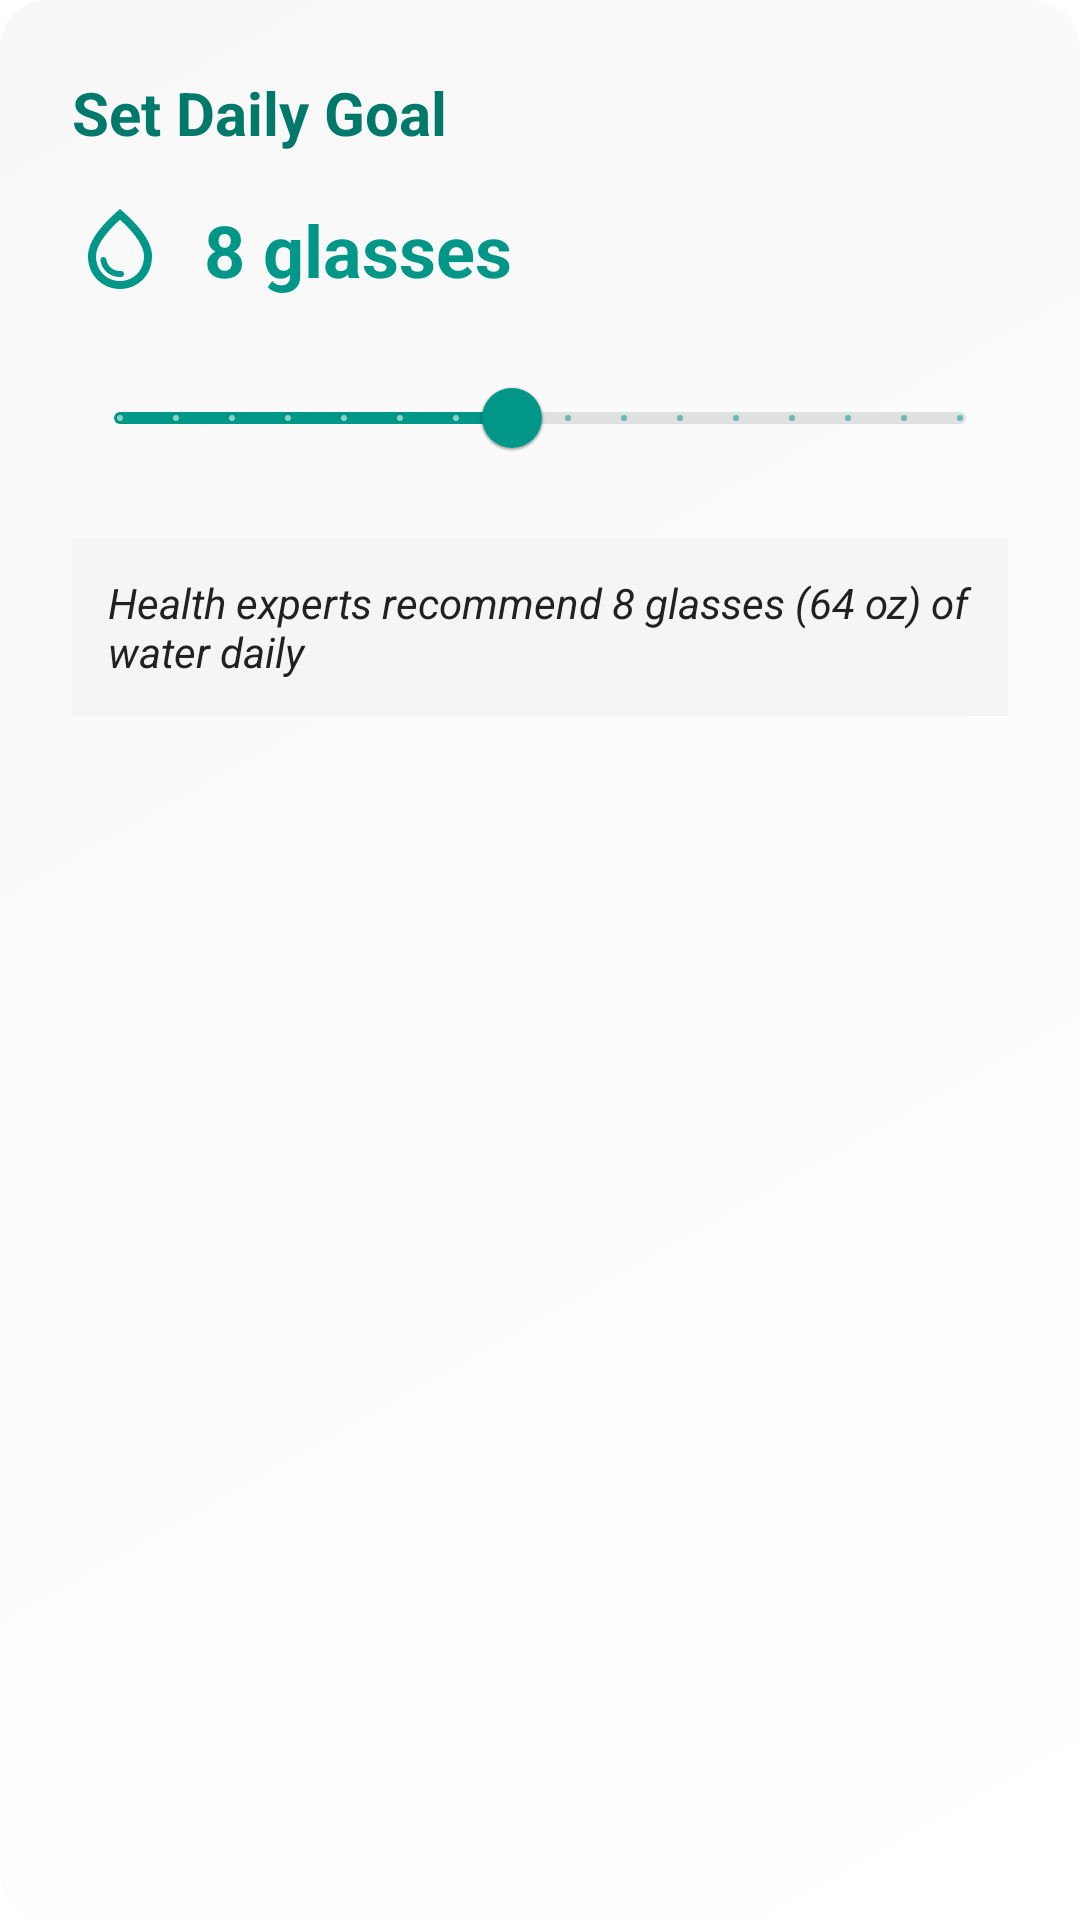

Icons on this 1080 × 1920 Android screen, each with the point to tap as [x,y]:
Hydration Reminder: [120,249]
